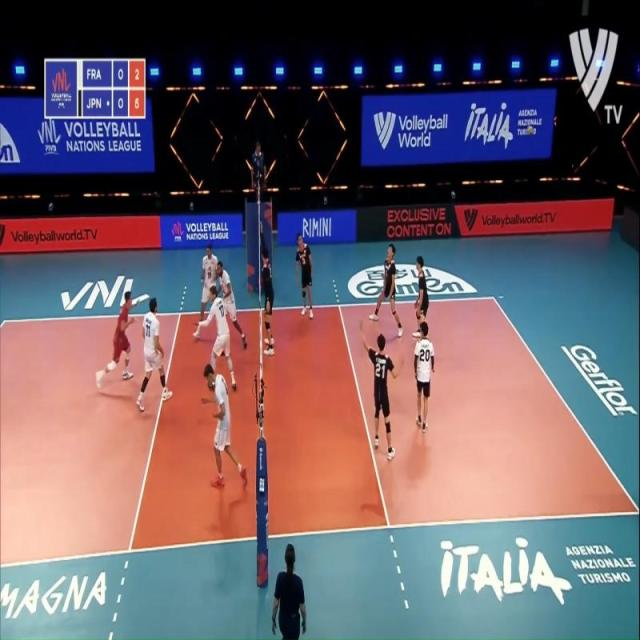volleyball: (527, 124, 533, 134)
